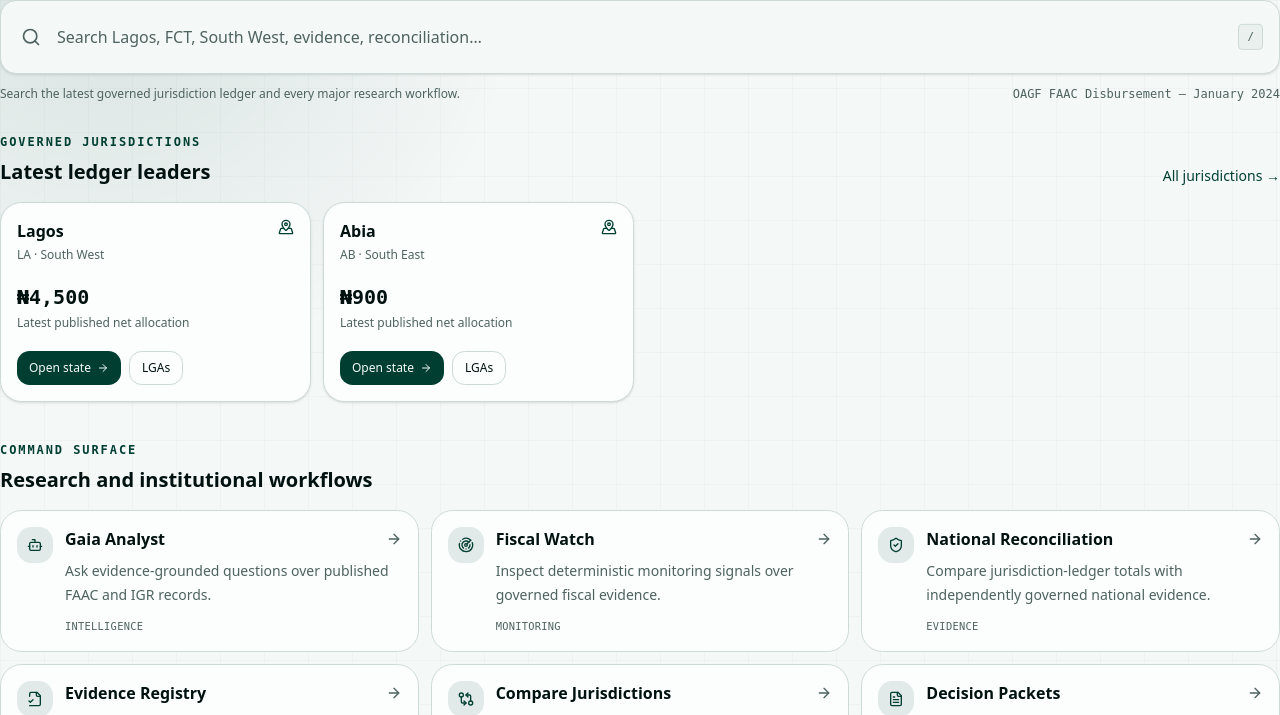
Test: GaiaTerminalSearch › filters jurisdictions without inventing missing results
Type "lagos" into the field named "Search Gaia Terminal". click: [640, 37]
box: left=9, top=9, right=1271, bottom=65
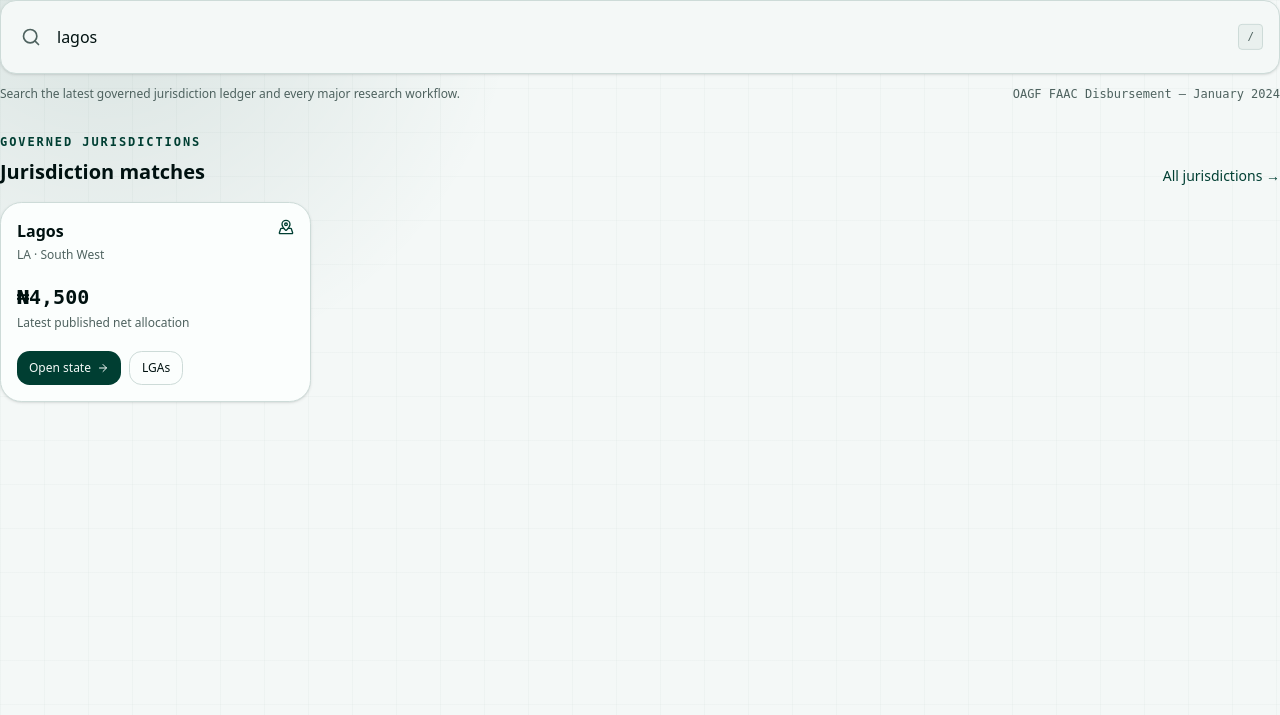
Expected: the text "Lagos" is shown, left=17, top=220, right=64, bottom=242
Now the text "Abia" is gone
